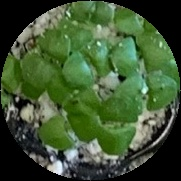Basil: (100, 99, 139, 156), (111, 74, 176, 108), (23, 32, 63, 87), (62, 41, 110, 86), (43, 111, 99, 149), (113, 38, 173, 71), (49, 78, 99, 114), (70, 0, 110, 25)
